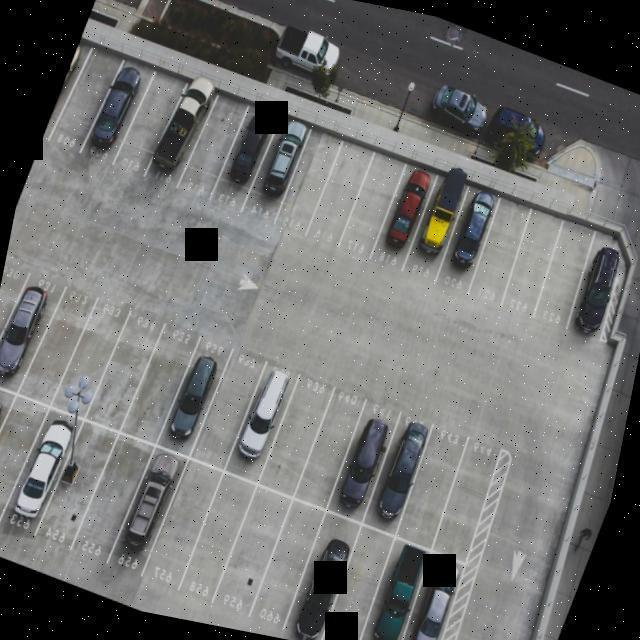space-empty: (246, 494, 328, 632), (213, 484, 293, 617), (143, 456, 223, 589), (180, 468, 257, 601), (74, 436, 154, 564), (318, 519, 402, 640), (20, 281, 94, 416), (258, 371, 335, 500), (123, 320, 198, 451), (89, 305, 163, 434), (528, 211, 603, 336), (429, 438, 504, 560), (193, 351, 265, 472), (57, 296, 127, 419), (337, 147, 408, 268), (295, 389, 367, 508), (398, 425, 471, 542), (307, 138, 378, 248), (276, 126, 346, 235), (115, 71, 183, 182), (468, 200, 535, 305), (182, 96, 245, 204), (501, 212, 566, 315), (55, 49, 115, 156), (0, 399, 45, 526), (0, 258, 32, 388)
space-occupied: (33, 421, 114, 554), (2, 406, 83, 536), (285, 510, 361, 640), (559, 225, 634, 350), (226, 361, 301, 486), (368, 157, 443, 280), (111, 441, 181, 572), (362, 414, 437, 536), (328, 397, 403, 516), (158, 336, 227, 460), (0, 270, 61, 403), (353, 536, 430, 640), (403, 170, 472, 285), (150, 78, 219, 188), (437, 188, 503, 294), (84, 58, 148, 166), (395, 551, 471, 640), (215, 99, 280, 203), (249, 114, 309, 216), (41, 44, 88, 150), (0, 387, 14, 514)
